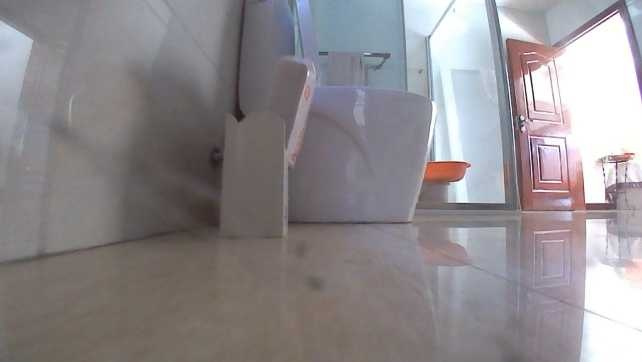toilet: (232, 0, 439, 225)
washing_machine: (503, 36, 584, 213)
